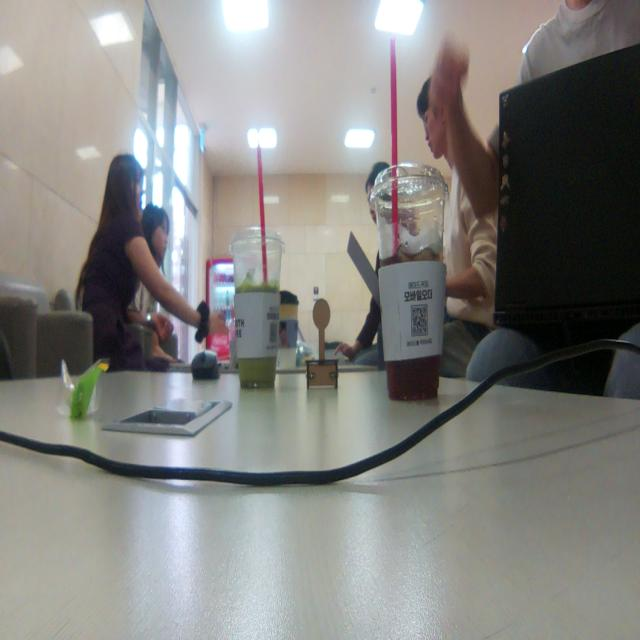target: (306, 300, 338, 390)
